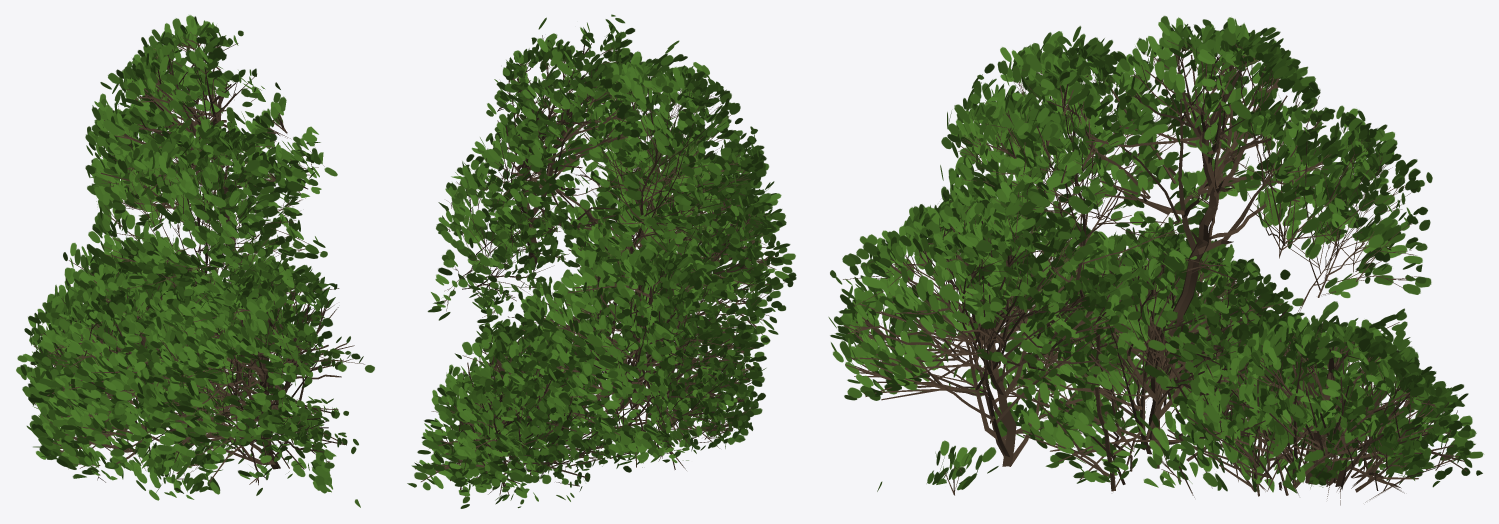
The picture shows the model from 3 angles, left to right: view 1: azimuth 30°, elevation 25°; view 2: azimuth 150°, elevation 25°; view 3: azimuth 270°, elevation 25°; orthographic projection. The views are drawn at different scales.
Parts seen in each view (by area): view 1: oak 01.001_trunk_Mat.001_0.488; view 2: oak 01.001_trunk_Mat.001_0.488; view 3: oak 01.001_trunk_Mat.001_0.488.
Part boxes in pixels (x1=…): oak 01.001_trunk_Mat.001_0.488: x1=16, y1=15, x2=374, y2=507; oak 01.001_trunk_Mat.001_0.488: x1=407, y1=14, x2=796, y2=508; oak 01.001_trunk_Mat.001_0.488: x1=828, y1=15, x2=1483, y2=505.
Size of the model in its own units: 2.45 by 4.01 by 4.9.
2 materials, 1 textured.
